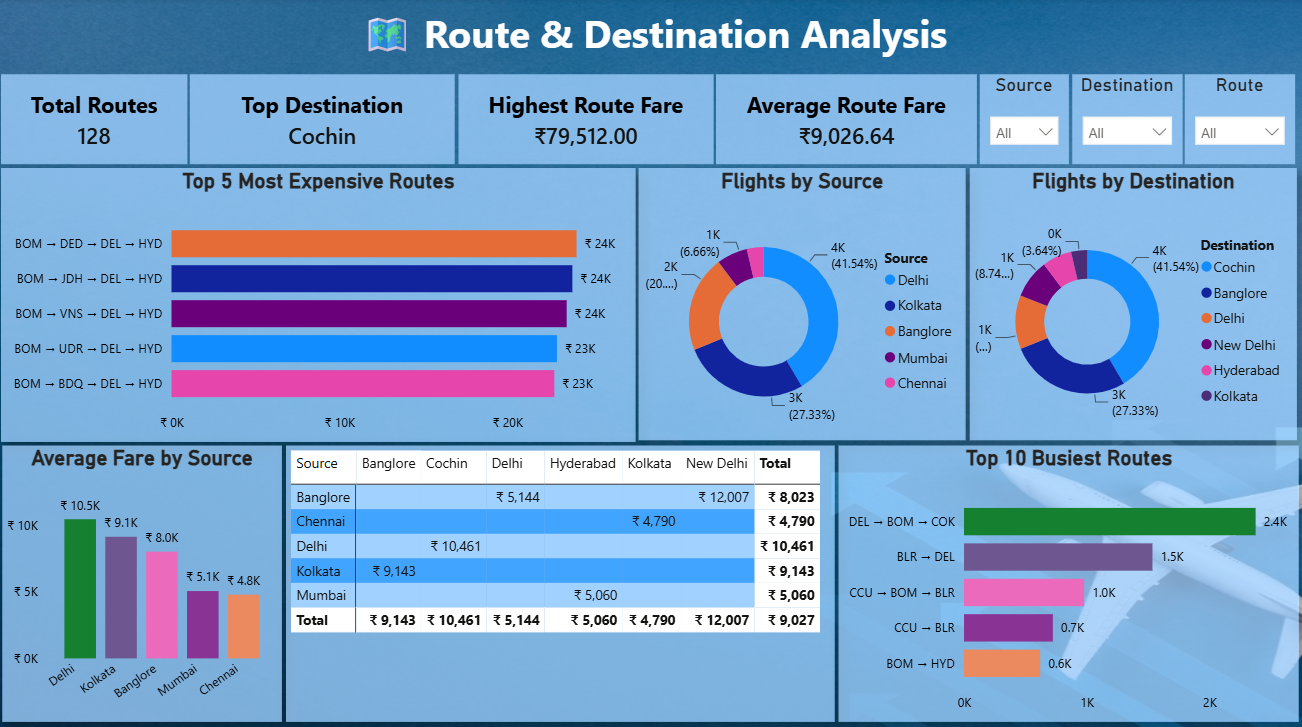

The dashboard page shown, as its layout file describes it:
{"tool":"powerbi","page":{"name":"Route & Destination Analysis","canvas":[1280,720],"ordinal":2},"visuals":[{"type":"textbox","box":[321.6,3.7,644.4,66],"z":0},{"type":"cardVisual","fields":{"Data":["Clean_Flight_Data.Highest Route Fare"]},"box":[452.8,74.6,249.5,88],"z":1000},{"type":"cardVisual","fields":{"Data":["Clean_Flight_Data.Average Route Fare"]},"box":[704.7,74.6,255.6,88],"z":2000},{"type":"cardVisual","fields":{"Data":["Clean_Flight_Data.Total Routes"]},"box":[4.9,74.6,182.2,88],"z":3000},{"type":"cardVisual","fields":{"Data":["Clean_Flight_Data.Most Popular Destination"]},"box":[189.5,74.6,259.2,88],"z":4000},{"type":"clusteredBarChart","title":"Top 5 Most Expensive Routes","fields":{"Category":["Clean_Flight_Data.Route"],"Y":["Clean_Flight_Data.Average Price"]},"box":[4.9,166.3,621.2,267.8],"z":5000},{"type":"donutChart","title":"Flights by Source","fields":{"Category":["Clean_Flight_Data.Source"],"Y":["Clean_Flight_Data.Total Flights"]},"box":[628.5,166.3,320.4,266.6],"z":6000},{"type":"donutChart","title":"Flights by Destination","fields":{"Y":["Clean_Flight_Data.Total Flights"],"Category":["Clean_Flight_Data.Destination"]},"box":[952.6,166.3,320.4,266.6],"z":7000},{"type":"clusteredColumnChart","title":"Average Fare by Source","fields":{"Category":["Clean_Flight_Data.Source"],"Y":["Clean_Flight_Data.Average Price"]},"box":[6.1,437.8,273.9,270.2],"z":8000},{"type":"pivotTable","fields":{"Rows":["Clean_Flight_Data.Source"],"Columns":["Clean_Flight_Data.Destination"],"Values":["Clean_Flight_Data.Average Price"]},"box":[283.7,437.8,536.8,270.2],"z":9000},{"type":"clusteredBarChart","title":"Top 10 Busiest Routes","fields":{"Category":["Clean_Flight_Data.Route"],"Y":["CountNonNull(Clean_Flight_Data.Route)"]},"box":[824.2,437.8,451.2,270.2],"z":10000},{"type":"slicer","title":"Source","fields":{"Values":["Clean_Flight_Data.Source"]},"box":[962.7,74.6,86.8,88],"z":11000},{"type":"slicer","title":"Destination","fields":{"Values":["Clean_Flight_Data.Destination"]},"box":[1053.2,74.6,107.6,88],"z":12000},{"type":"slicer","title":"Route","fields":{"Values":["Clean_Flight_Data.Route"]},"box":[1162.9,74.6,107.6,88],"z":13000}]}

Visuals, with their boxes in screenshot pixels (x1, y1, x2, y2), scaled from the page's 1280x720 canvas onto the 1302x727 screenshot:
textbox: locate(327, 4, 983, 70)
cardVisual - Clean_Flight_Data.Highest Route Fare: locate(461, 75, 714, 164)
cardVisual - Clean_Flight_Data.Average Route Fare: locate(717, 75, 977, 164)
cardVisual - Clean_Flight_Data.Total Routes: locate(5, 75, 190, 164)
cardVisual - Clean_Flight_Data.Most Popular Destination: locate(193, 75, 456, 164)
"Top 5 Most Expensive Routes" clusteredBarChart: locate(5, 168, 637, 438)
"Flights by Source" donutChart: locate(639, 168, 965, 437)
"Flights by Destination" donutChart: locate(969, 168, 1295, 437)
"Average Fare by Source" clusteredColumnChart: locate(6, 442, 285, 715)
pivotTable - Clean_Flight_Data.Source x Clean_Flight_Data.Destination: locate(289, 442, 835, 715)
"Top 10 Busiest Routes" clusteredBarChart: locate(838, 442, 1297, 715)
"Source" slicer: locate(979, 75, 1068, 164)
"Destination" slicer: locate(1071, 75, 1181, 164)
"Route" slicer: locate(1183, 75, 1292, 164)
